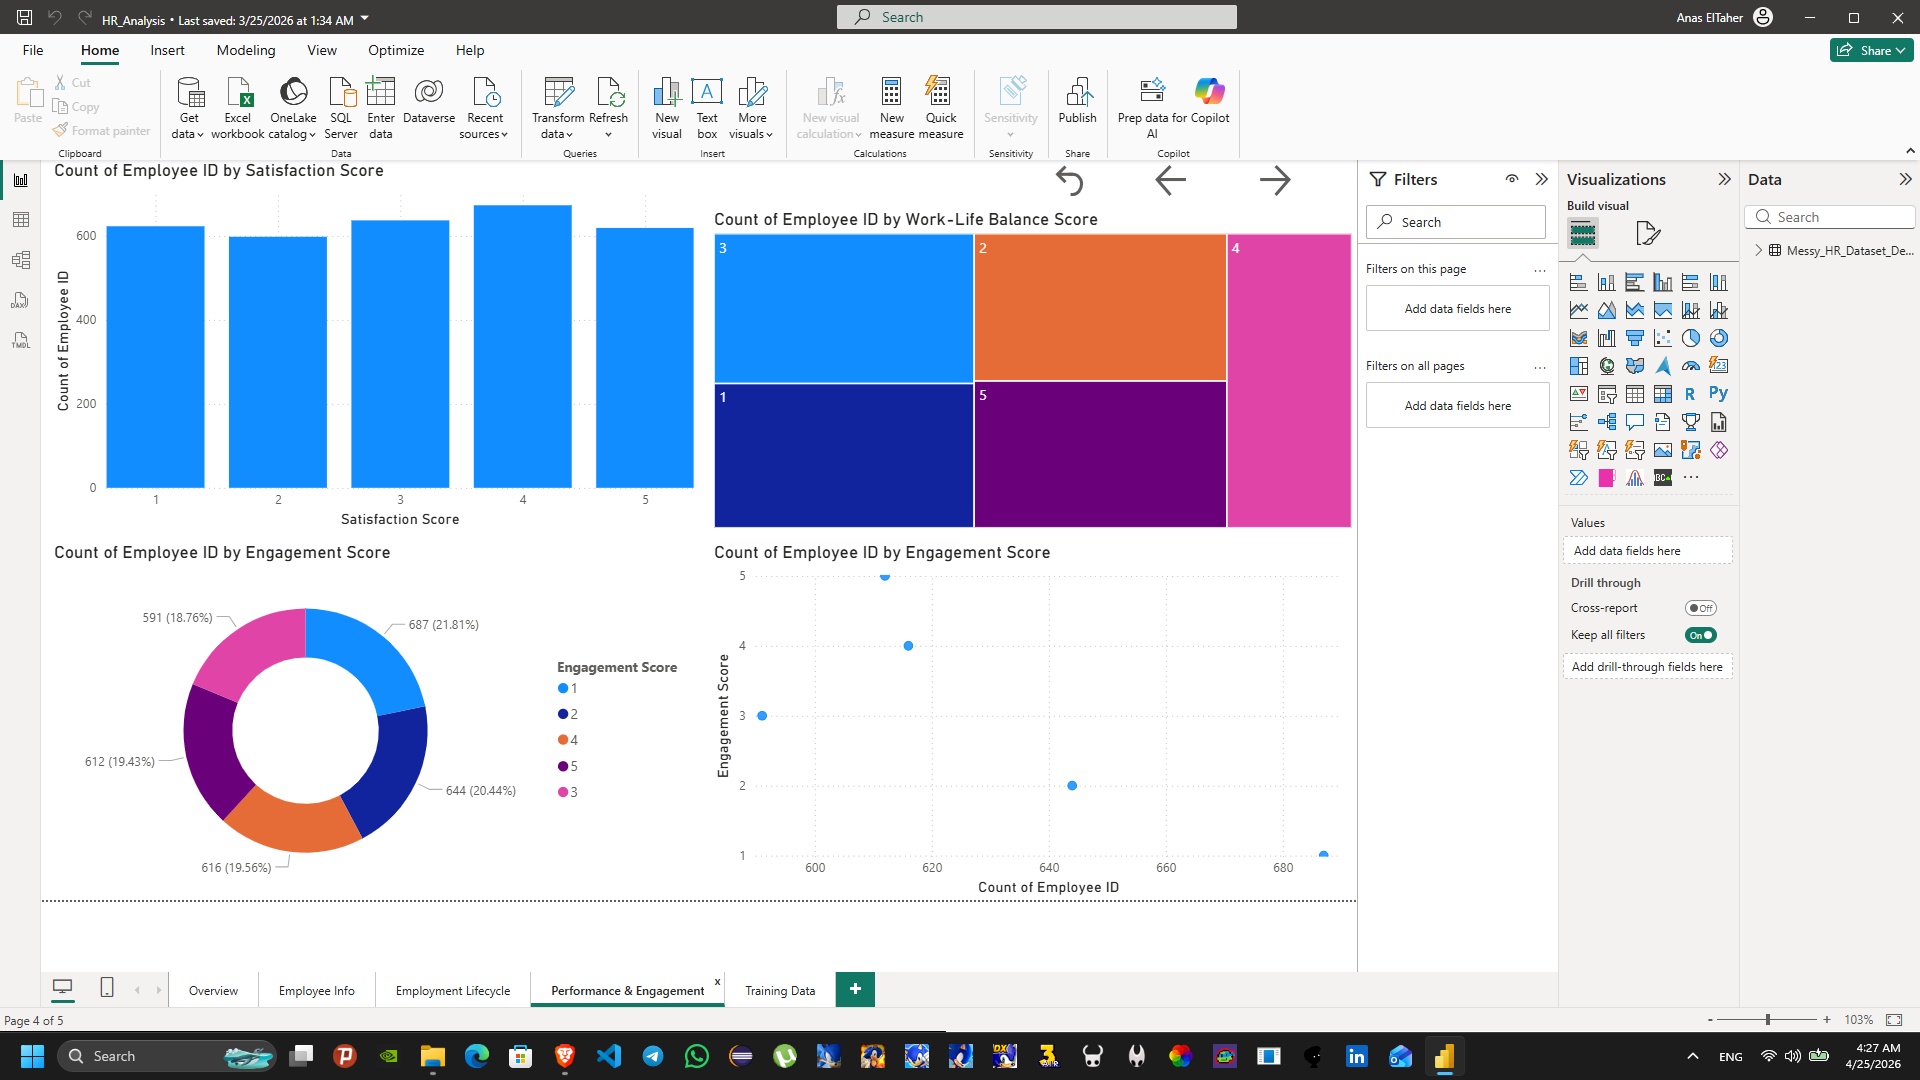

This screenshot's page, from the dashboard's own definition file:
{"tool":"powerbi","page":{"name":"Performance & Engagement","canvas":[1280,720],"ordinal":3},"visuals":[{"type":"clusteredColumnChart","fields":{"Category":["Messy_HR_Dataset_Detailed.Satisfaction Score"],"Y":["CountNonNull(Messy_HR_Dataset_Detailed.Employee ID)"]},"box":[8,0,632.5,361.8],"z":0},{"type":"donutChart","fields":{"Category":["Messy_HR_Dataset_Detailed.Engagement Score"],"Y":["CountNonNull(Messy_HR_Dataset_Detailed.Employee ID)"]},"box":[8,372,632,348],"z":1},{"type":"treemap","fields":{"Group":["Messy_HR_Dataset_Detailed.Work-Life Balance Score"],"Values":["CountNonNull(Messy_HR_Dataset_Detailed.Employee ID)"]},"box":[650,47.5,630,315],"z":2},{"type":"scatterChart","fields":{"X":["CountNonNull(Messy_HR_Dataset_Detailed.Employee ID)"],"Y":["Messy_HR_Dataset_Detailed.Engagement Score"]},"box":[650,372,630,348],"z":3},{"type":"actionButton","box":[1180,0,100,40],"z":4},{"type":"actionButton","box":[1080,0,100,40],"z":5},{"type":"actionButton","box":[980,0,100,40],"z":6}]}

Visuals, with their boxes on the page's 1280x720 design canvas (x1, y1, x2, y2). These are canvas units, not pixel positions in the 1920x1080 screenshot, which may show the page scaled, cropped or inside an application window:
clusteredColumnChart - Messy_HR_Dataset_Detailed.Satisfaction Score x CountNonNull(Messy_HR_Dataset_Detailed.Employee ID): (8,0,640,362)
donutChart - Messy_HR_Dataset_Detailed.Engagement Score x CountNonNull(Messy_HR_Dataset_Detailed.Employee ID): (8,372,640,720)
treemap - Messy_HR_Dataset_Detailed.Work-Life Balance Score x CountNonNull(Messy_HR_Dataset_Detailed.Employee ID): (650,48,1280,362)
scatterChart - CountNonNull(Messy_HR_Dataset_Detailed.Employee ID) x Messy_HR_Dataset_Detailed.Engagement Score: (650,372,1280,720)
actionButton: (1180,0,1280,40)
actionButton: (1080,0,1180,40)
actionButton: (980,0,1080,40)
